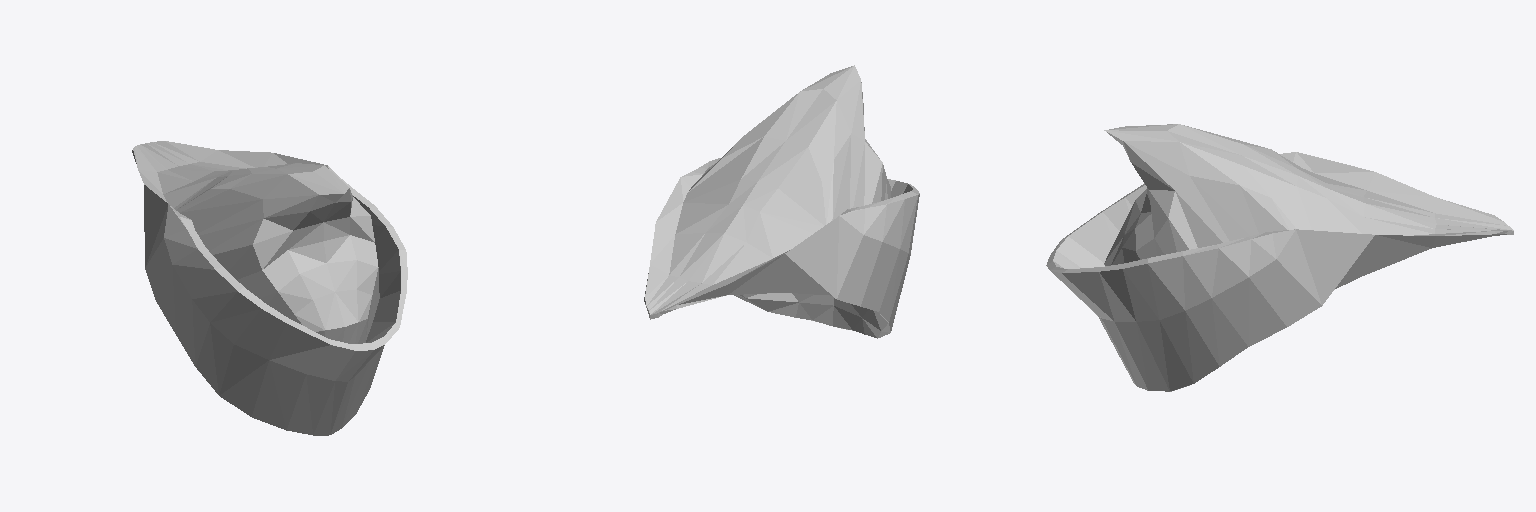
File: guyHat.obj
3 renders of one model, left to right at view 1: azimuth 30°, elevation 25°; view 2: azimuth 150°, elevation 25°; view 3: azimuth 270°, elevation 25°, orthographic.
Visible parts, largest first — view 1: polySurface3; view 2: polySurface3; view 3: polySurface3.
Boxes of the visible parts, <box> form: polySurface3: <box>132,141,407,435</box>; polySurface3: <box>644,65,919,338</box>; polySurface3: <box>1046,124,1513,391</box>.
Bounding box in the file's own units: 28.18 × 34.27 × 57.55.